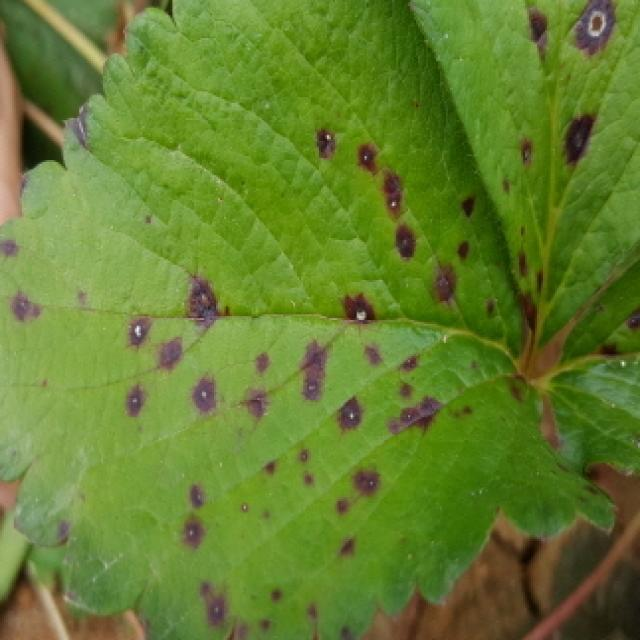Leaf Spot: (0, 0, 620, 640), (415, 0, 640, 354), (542, 248, 640, 479)
